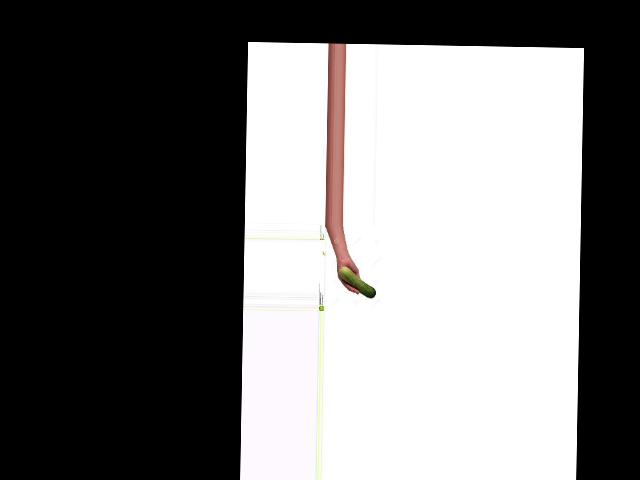cucumber: (338, 266, 375, 297)
